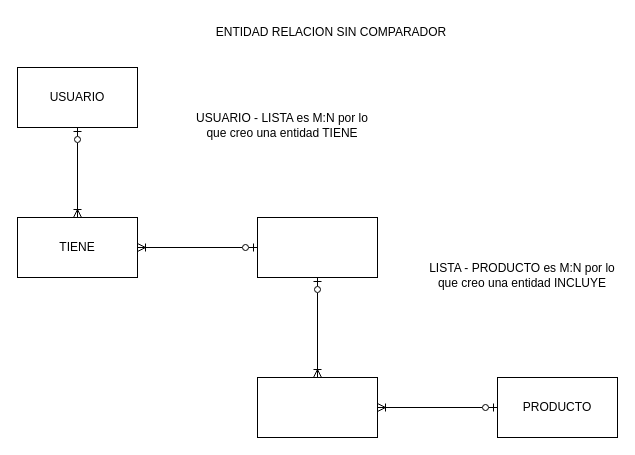
This 635x455 diagram has some shape labels left out. The centre of each missing label's shape, as x and y in pixels:
INCLUYE: the point at 317,407
LISTA: the point at 317,247
